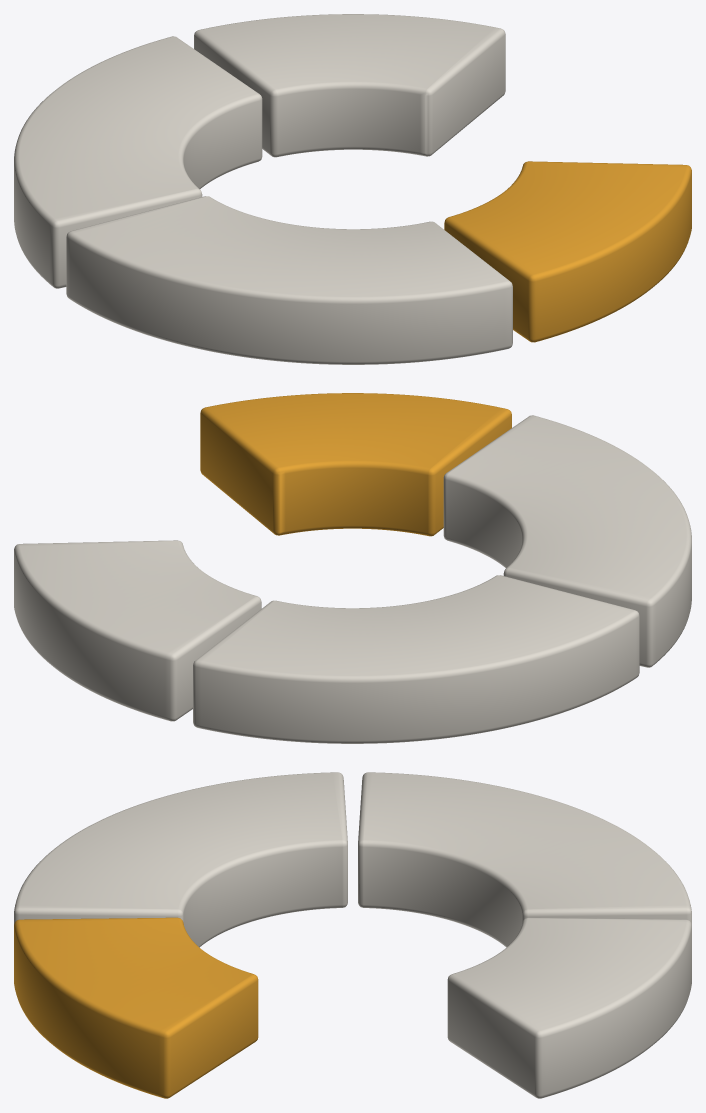
The model's file is ctec-mark.glb.
The picture shows the model from 3 angles, top to bottom: view 1: azimuth 30°, elevation 25°; view 2: azimuth 150°, elevation 25°; view 3: azimuth 270°, elevation 25°; orthographic projection.
Visible parts, largest first — view 1: arc_bottom_left, arc_top_left, arc_top_right, arc_bottom_right; view 2: arc_top_left, arc_bottom_left, arc_bottom_right, arc_top_right; view 3: arc_bottom_left, arc_top_left, arc_bottom_right, arc_top_right.
Boxes of the visible parts, bbox=[...] form: arc_bottom_left: bbox=[66, 196, 512, 364]; arc_top_left: bbox=[14, 36, 262, 288]; arc_top_right: bbox=[194, 14, 505, 157]; arc_bottom_right: bbox=[444, 161, 691, 342]; arc_top_left: bbox=[193, 575, 639, 743]; arc_bottom_left: bbox=[443, 415, 691, 667]; arc_bottom_right: bbox=[200, 393, 511, 536]; arc_top_right: bbox=[14, 540, 261, 721]; arc_bottom_left: bbox=[14, 772, 347, 947]; arc_top_left: bbox=[358, 772, 691, 947]; arc_bottom_right: bbox=[14, 917, 258, 1098]; arc_top_right: bbox=[447, 917, 691, 1098].
Size of the model in its own units: 1.83 by 0.22 by 2.
